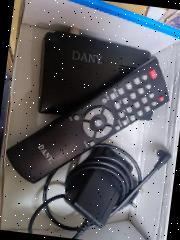electronic: (0, 30, 180, 220), (13, 19, 178, 138), (52, 125, 178, 240)
